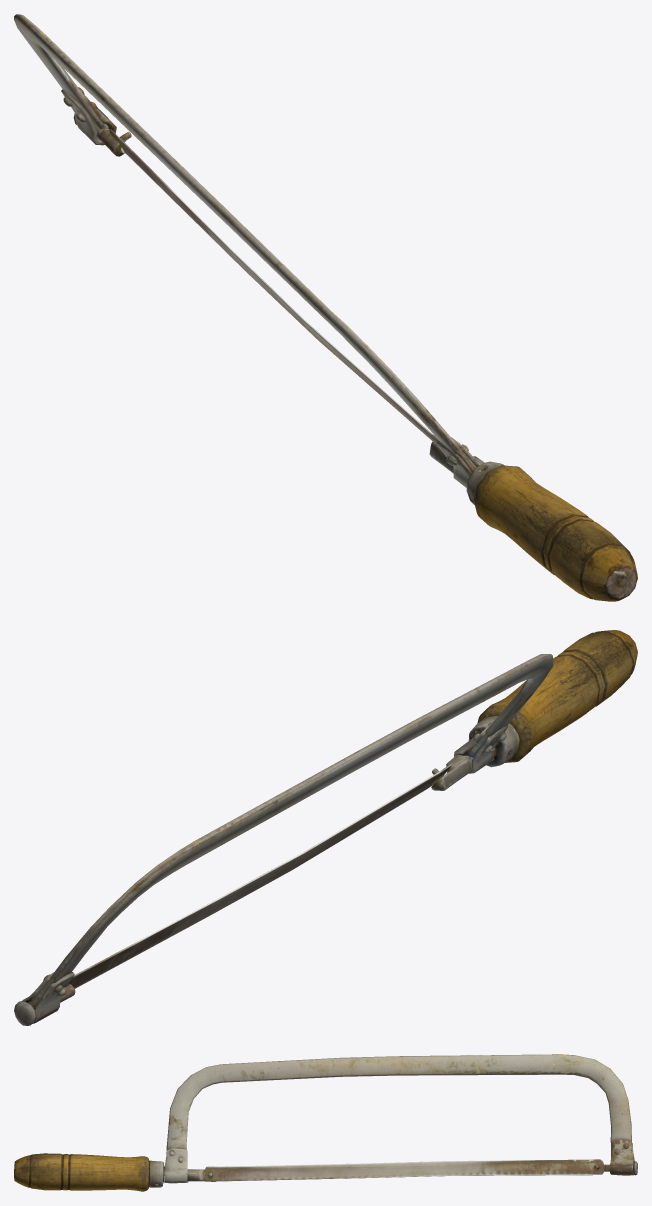
Rendered from pb100_hacksaw_sm.glb.
3 views of the same model, one above another, from view 1: azimuth 30°, elevation 25°; view 2: azimuth 150°, elevation 25°; view 3: azimuth 270°, elevation 25° (orthographic). The views are drawn at different scales.
Parts seen in each view (by area): view 1: Object_2; view 2: Object_2; view 3: Object_2.
Part boxes in pixels (left/top/right/bottom): Object_2: left=14, top=14, right=637, bottom=601; Object_2: left=14, top=630, right=637, bottom=1025; Object_2: left=14, top=1054, right=637, bottom=1191.
Bounding box in the file's own units: 7.44 × 9.75 × 46.85.
1 material, 1 textured.
